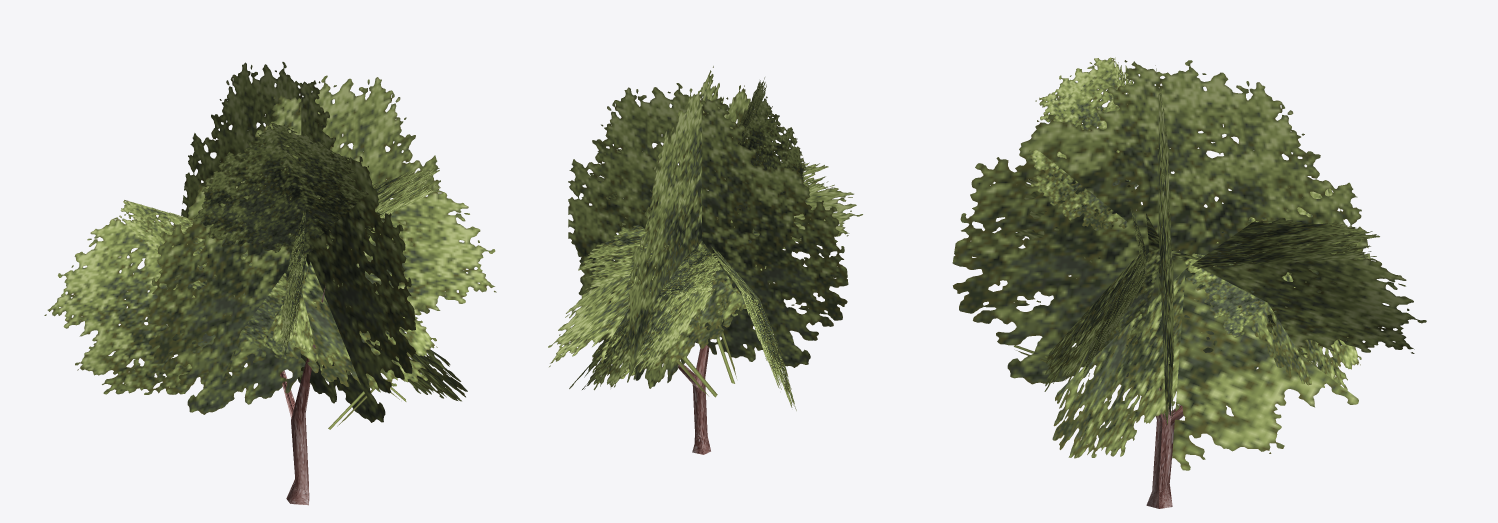
Rendered from treeBig.FBX.
The picture shows the model from 3 angles, left to right: view 1: azimuth 30°, elevation 25°; view 2: azimuth 150°, elevation 25°; view 3: azimuth 270°, elevation 25°; orthographic projection. The views are drawn at different scales.
Visible parts, largest first — view 1: treeBig, treeBigBark; view 2: treeBig, treeBigBark; view 3: treeBig, treeBigBark.
Boxes of the visible parts, x1,y1,x2,y2 form: treeBig: (44, 62, 496, 429); treeBigBark: (280, 286, 325, 505); treeBig: (548, 66, 862, 410); treeBigBark: (678, 339, 710, 454); treeBig: (952, 57, 1426, 470); treeBigBark: (1146, 388, 1183, 508).
Size of the model in its own units: 1157 by 1208 by 1328.
